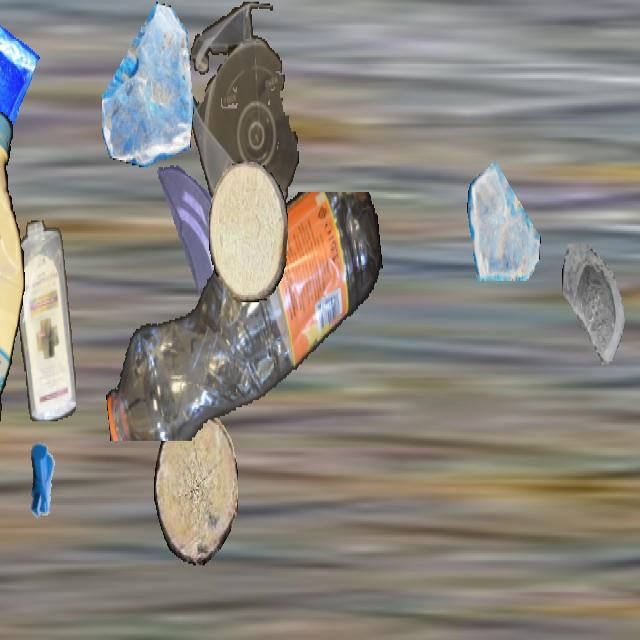glass: (102, 2, 194, 165), (153, 158, 237, 308), (561, 244, 637, 378), (467, 156, 541, 288), (0, 2, 40, 148)
metal: (12, 428, 74, 538)
plastic: (101, 192, 385, 441), (188, 2, 300, 236), (15, 220, 75, 420), (0, 112, 25, 489)
wood: (154, 412, 238, 566), (209, 162, 287, 300)
